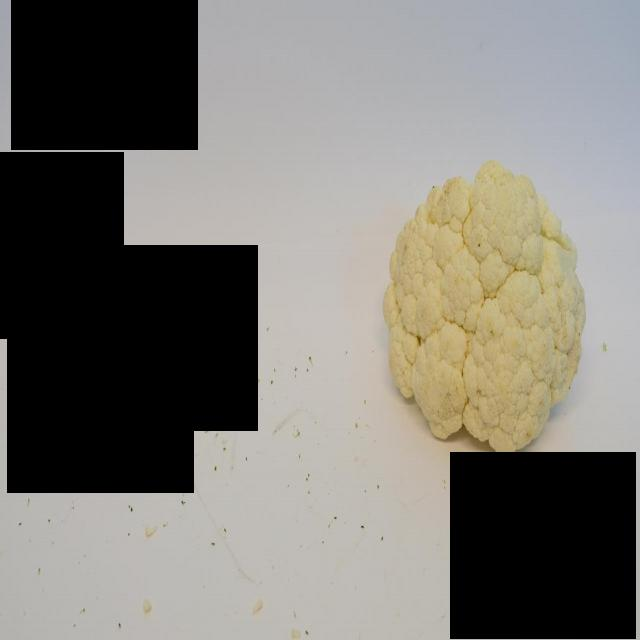cauliflower: (387, 157, 585, 462)
